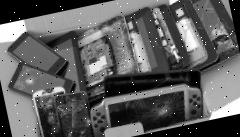electronic: (94, 45, 216, 121), (78, 73, 212, 137), (1, 48, 80, 112), (0, 23, 74, 89)
